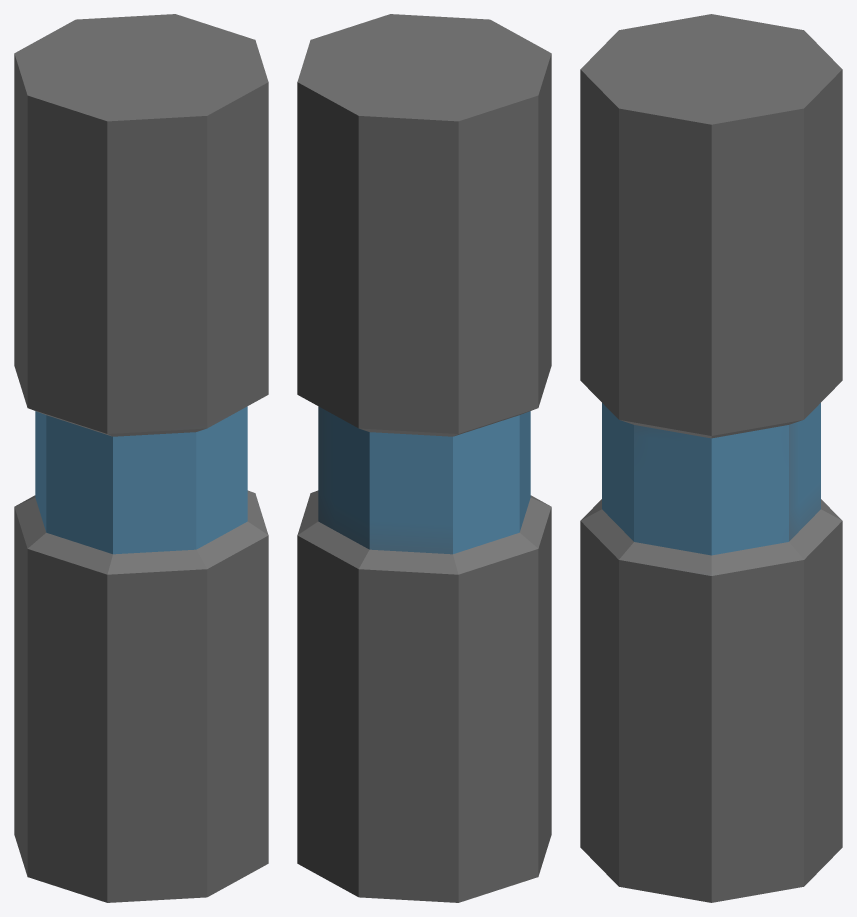
3 renders of one model, left to right at view 1: azimuth 30°, elevation 25°; view 2: azimuth 150°, elevation 25°; view 3: azimuth 270°, elevation 25°, orthographic.
Parts seen in each view (by area): view 1: SM_B_Part22; view 2: SM_B_Part22; view 3: SM_B_Part22.
Part boxes in pixels (x1,y1,x2,y2): SM_B_Part22: [14, 14, 268, 902]; SM_B_Part22: [297, 14, 551, 902]; SM_B_Part22: [580, 14, 842, 902].
Bounding box in the file's own units: 59.04 × 59.04 × 193.
Materials: 1 (1 with a texture image).
